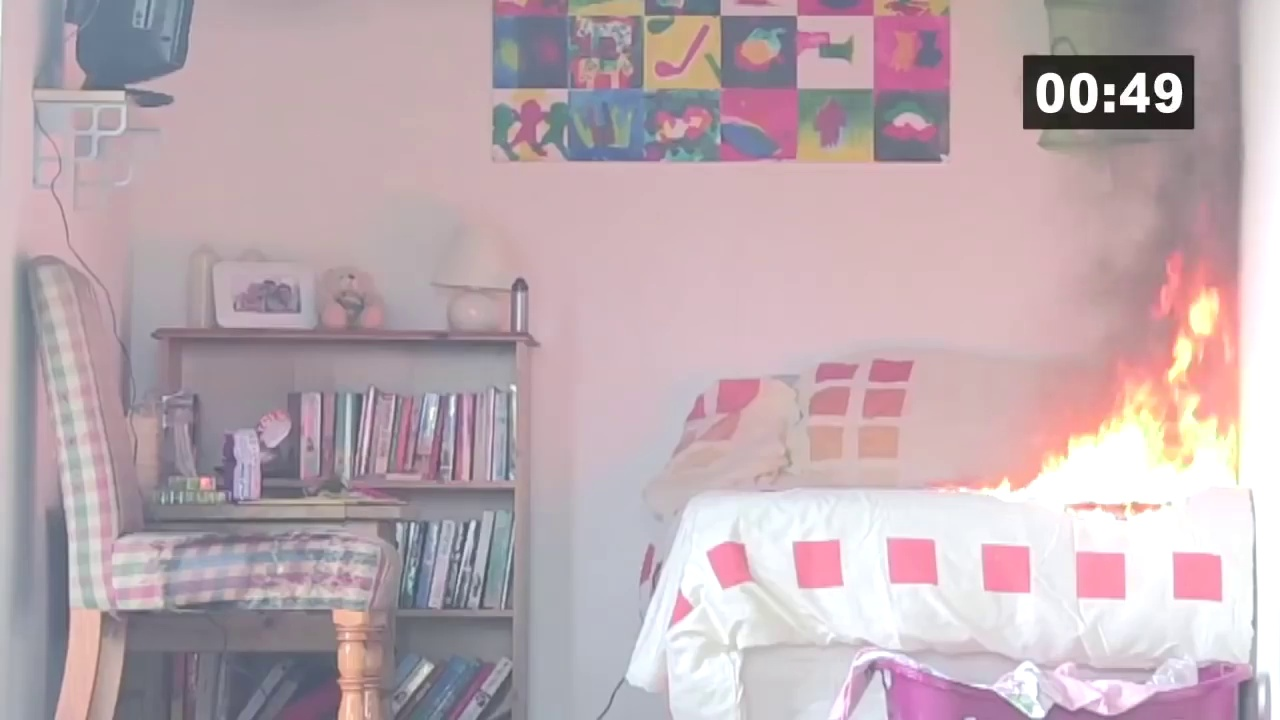Furniture_Fabric: (686, 361, 1273, 720)
Furniture_Wood: (8, 254, 401, 720)
